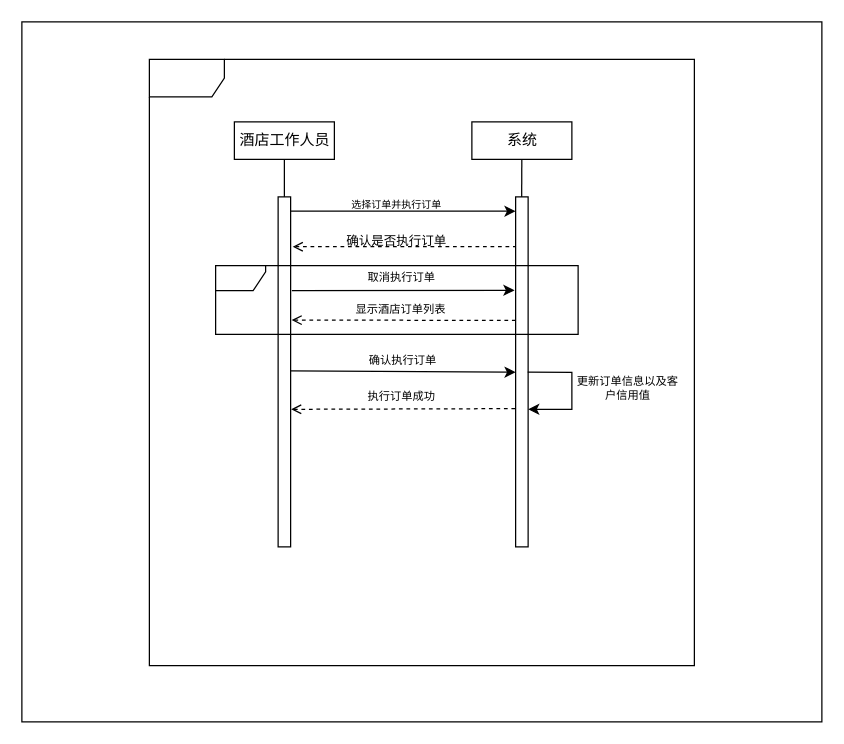
The diagram is 844 pixels wide and 744 high, and some of its shapes have lost their labels. Here are the shapes that lost their labels. From the top down, the box of each, then its label:
(214, 264, 578, 334): opt
(148, 58, 694, 666): 订单执行
